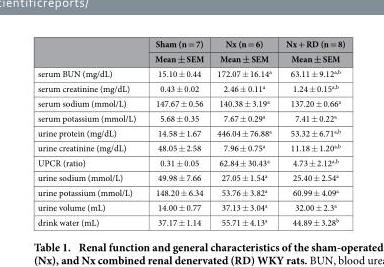table: (36, 37, 344, 227)
table column: (36, 37, 144, 227), (209, 37, 278, 227), (278, 37, 344, 227), (144, 37, 209, 227)
table column header: (36, 37, 344, 65)
table row: (36, 50, 344, 65), (36, 65, 344, 80), (36, 80, 344, 95), (36, 95, 344, 110), (36, 110, 344, 125), (36, 125, 344, 140), (36, 154, 344, 169), (36, 169, 344, 184), (36, 184, 344, 199), (36, 199, 344, 214), (36, 140, 344, 154), (36, 37, 344, 50), (36, 214, 344, 227)
table spanning cell: (209, 37, 278, 65), (278, 37, 344, 65), (144, 37, 209, 65)
